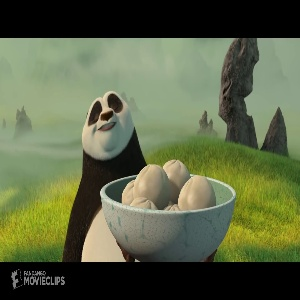po: (61, 89, 168, 262)
